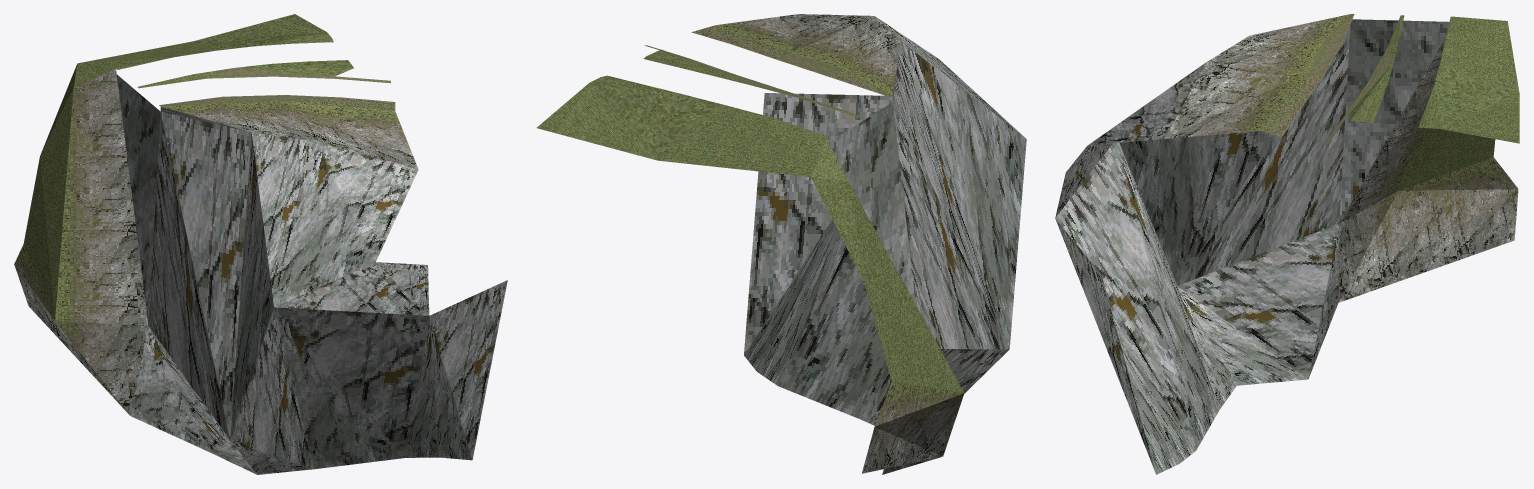
Rendered from cs_lodbit_81.obj.
3 views of the same model, side by side, from view 1: azimuth 30°, elevation 25°; view 2: azimuth 150°, elevation 25°; view 3: azimuth 270°, elevation 25° (orthographic). The views are drawn at different scales.
Parts seen in each view (by area): view 1: cs_lodbit_81; view 2: cs_lodbit_81; view 3: cs_lodbit_81.
Part boxes in pixels (x1=…): cs_lodbit_81: x1=14, y1=14, x2=507, y2=474; cs_lodbit_81: x1=536, y1=14, x2=1026, y2=474; cs_lodbit_81: x1=1055, y1=14, x2=1519, y2=474.
Size of the model in its own units: 96.32 by 101 by 121.
4 materials, 4 textured.
